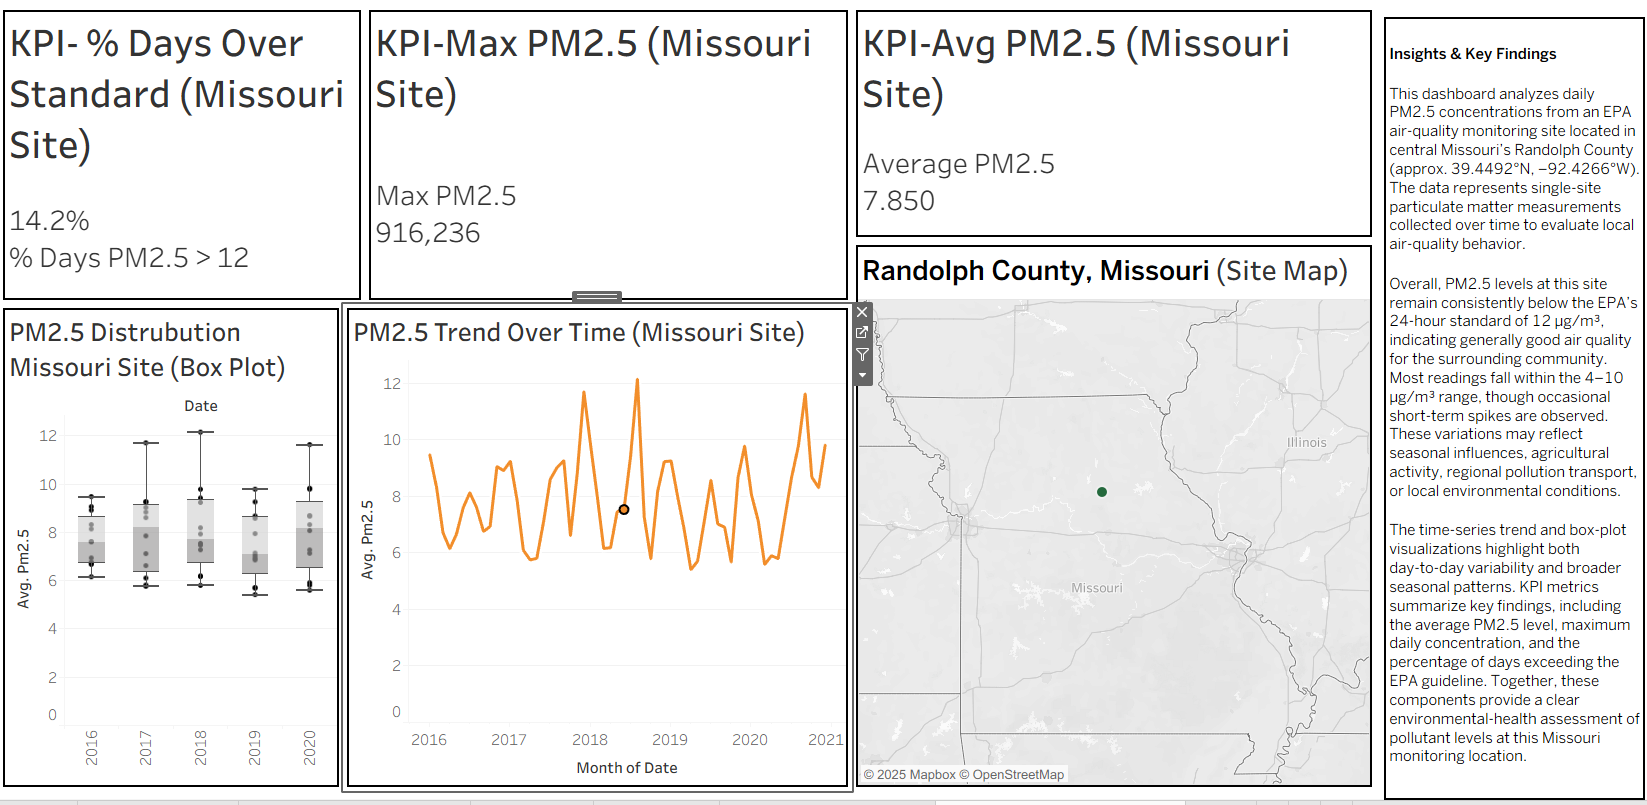

The dashboard page shown, as its layout file describes it:
{"tool":"tableau","page":{"name":"PM2.5 Air Quality Dashboard — Missouri Site Analysis (2017–2024) ","canvas":[1000,1000],"units":"permille","ordinal":0},"visuals":[{"type":"worksheet","title":"KPI- % Days Over Standard ","mark":"Automatic","box":[10.7,10.1,165.8,371.9]},{"type":"worksheet","title":"KPI-Max PM2.5","mark":"Automatic","box":[176.5,10.1,220.9,371.9]},{"type":"worksheet","title":"KPI-Avg PM2.5","mark":"Automatic","box":[397.4,10.1,237.5,293.3]},{"type":"text","box":[634.9,10.1,354.4,40.5]},{"type":"text","box":[840.7,23.7,158.2,977.5]},{"type":"worksheet","title":"Monitoring Site Map","mark":"Circle","rows":["Latitude"],"cols":["Longitude"],"box":[397.4,303.4,237.5,686.5]},{"type":"worksheet","title":"PM2.5 Distrubution (Box Plot)","mark":"Circle","rows":["PM2.5"],"cols":["Date"],"box":[10.7,382,156,607.9]},{"type":"worksheet","title":"PM2.5 Trend Over Time","mark":"Automatic","rows":["PM2.5"],"cols":["Date"],"box":[166.7,382,230.6,607.9]}]}

Visuals, with their boxes on the dashboard's canvas, which has no fixed pixel size, in thousandths of its width and height (x1, y1, x2, y2). These are canvas units, not pixel positions in the 1647x805 screenshot, which may show the page scaled, cropped or inside an application window:
"KPI- % Days Over Standard " worksheet: [left=11, top=10, right=176, bottom=382]
"KPI-Max PM2.5" worksheet: [left=176, top=10, right=397, bottom=382]
"KPI-Avg PM2.5" worksheet: [left=397, top=10, right=635, bottom=303]
text: [left=635, top=10, right=989, bottom=51]
text: [left=841, top=24, right=999, bottom=1001]
"Monitoring Site Map" worksheet (Circle marks): [left=397, top=303, right=635, bottom=990]
"PM2.5 Distrubution (Box Plot)" worksheet (Circle marks): [left=11, top=382, right=167, bottom=990]
"PM2.5 Trend Over Time" worksheet: [left=167, top=382, right=397, bottom=990]
